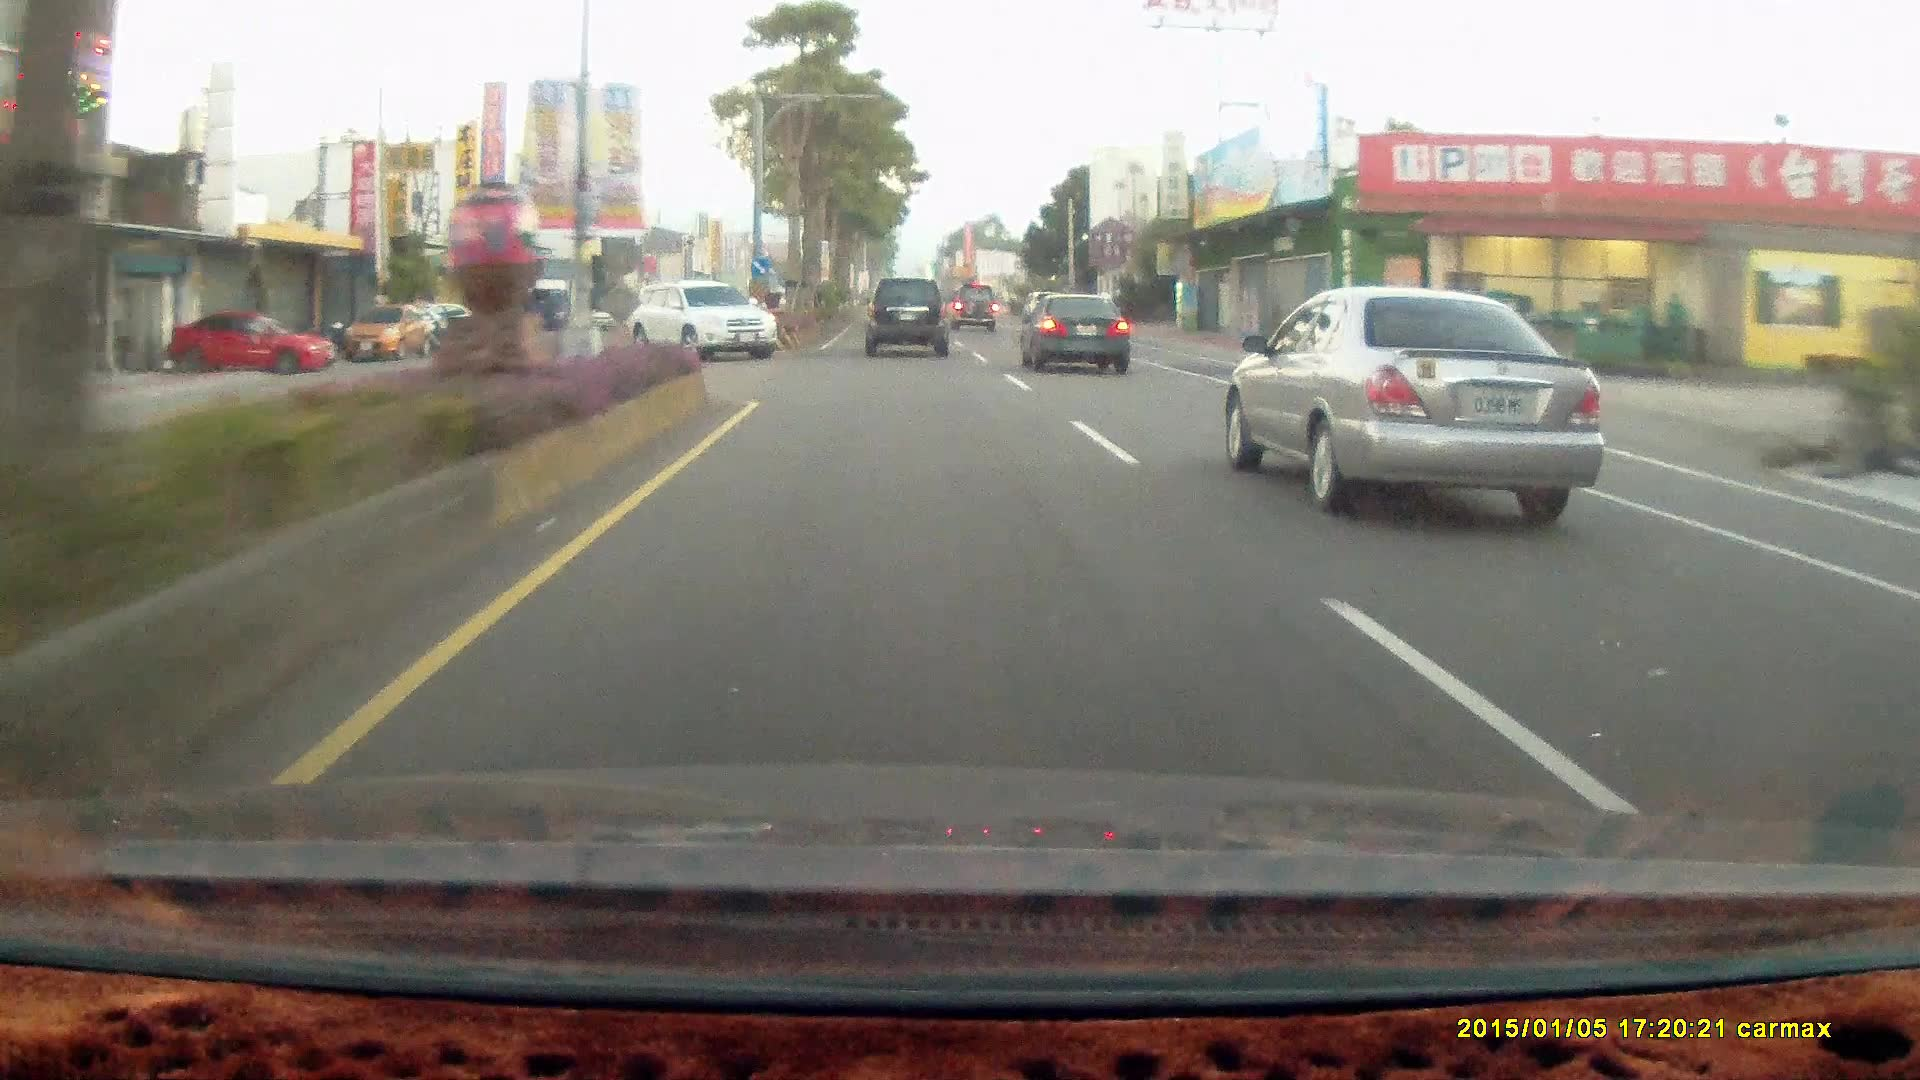vehicle: (1236, 284, 1615, 522), (624, 276, 778, 363), (640, 277, 783, 359), (164, 313, 336, 376), (166, 310, 336, 373), (1015, 289, 1129, 373), (1022, 294, 1134, 375), (339, 302, 462, 367), (868, 278, 956, 357), (862, 276, 947, 353), (340, 305, 429, 359), (396, 302, 484, 345), (947, 282, 1000, 334)
